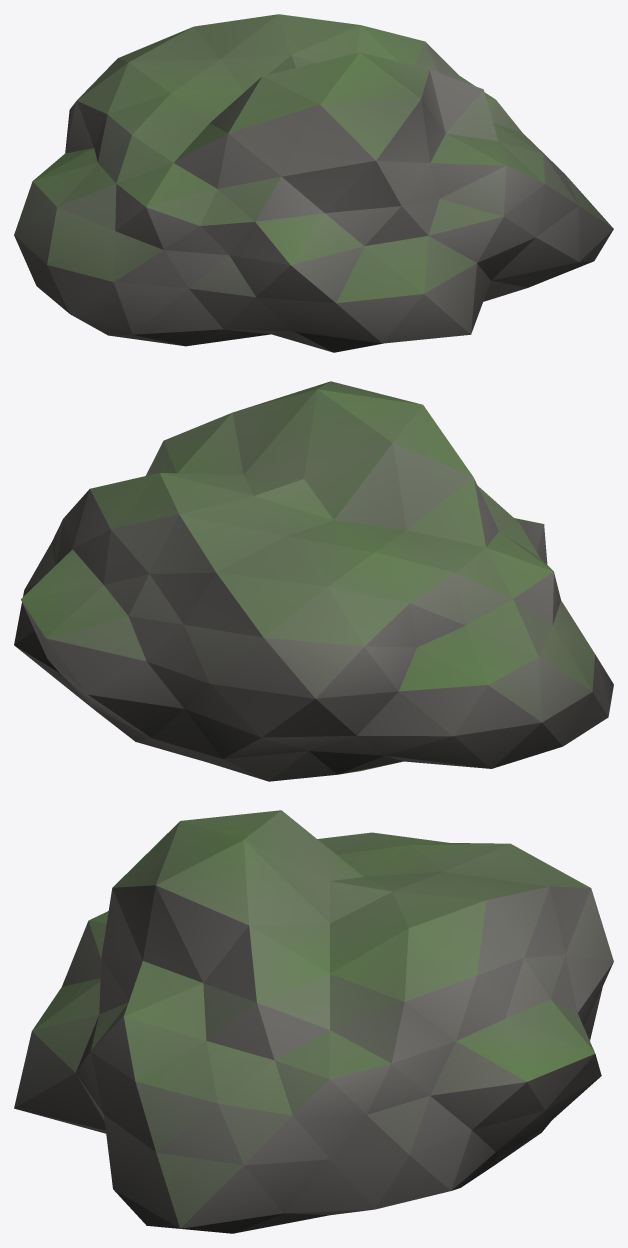
Rendered from Rock_L.glb.
3 renders of one model, top to bottom at view 1: azimuth 30°, elevation 25°; view 2: azimuth 150°, elevation 25°; view 3: azimuth 270°, elevation 25°, orthographic. The views are drawn at different scales.
Parts seen in each view (by area): view 1: Rock_L; view 2: Rock_L; view 3: Rock_L.
Part boxes in pixels (bbox=[...]): Rock_L: bbox=[14, 14, 613, 352]; Rock_L: bbox=[14, 381, 613, 781]; Rock_L: bbox=[14, 810, 613, 1233].
Bounding box in the file's own units: 5.71 × 2.45 × 4.89.
